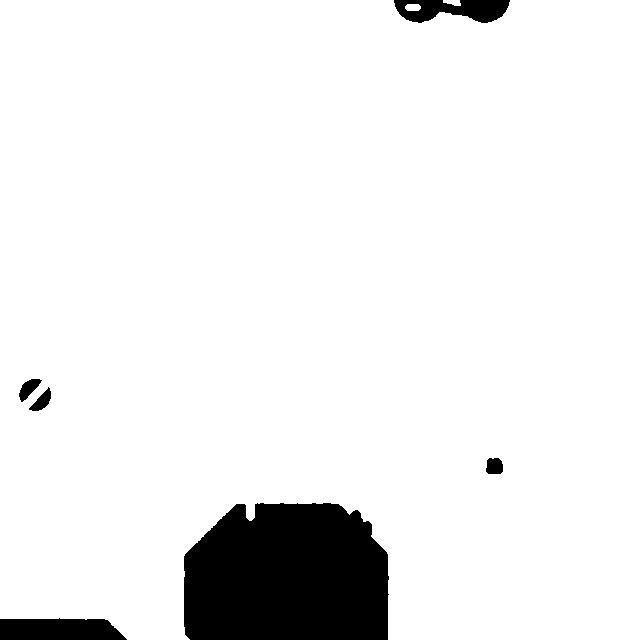copper: (476, 448, 512, 483)
mousebite: (235, 488, 264, 530)
open: (8, 368, 61, 422)
pin-hole: (395, 0, 430, 20)
short: (419, 0, 487, 25)
spur: (339, 500, 381, 547)
